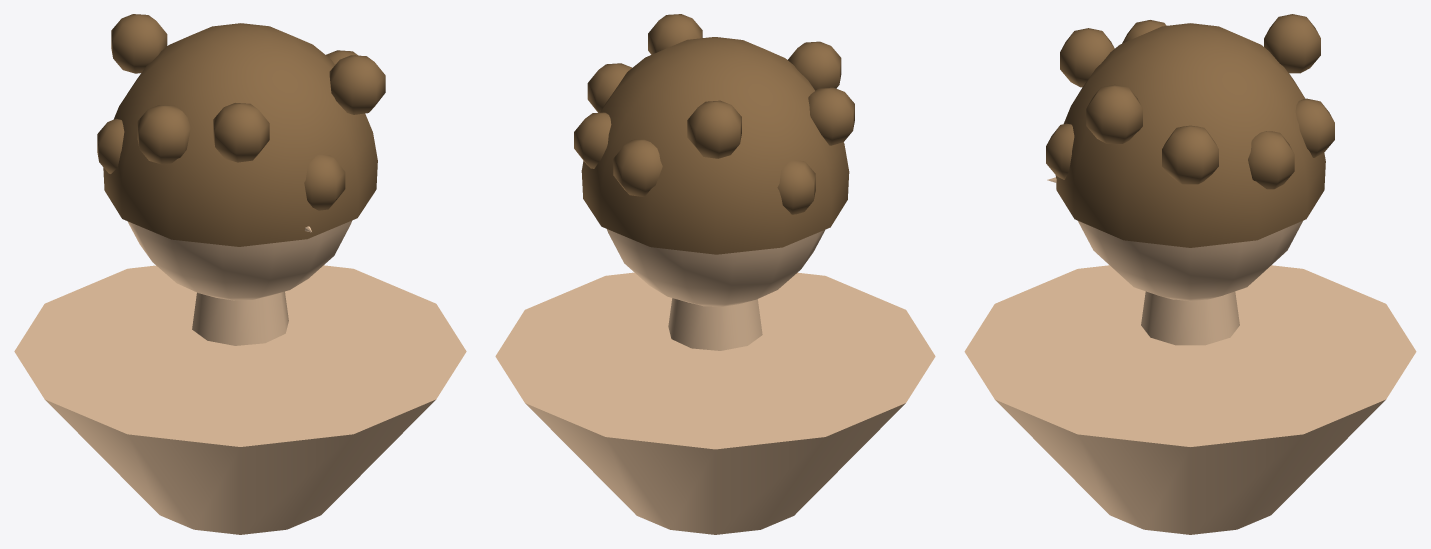
Rendered from raw_001.glb.
3 renders of one model, left to right at view 1: azimuth 30°, elevation 25°; view 2: azimuth 150°, elevation 25°; view 3: azimuth 270°, elevation 25°, orthographic. The views are drawn at different scales.
Size of the model in its own units: 1.92 by 2.15 by 1.92.
